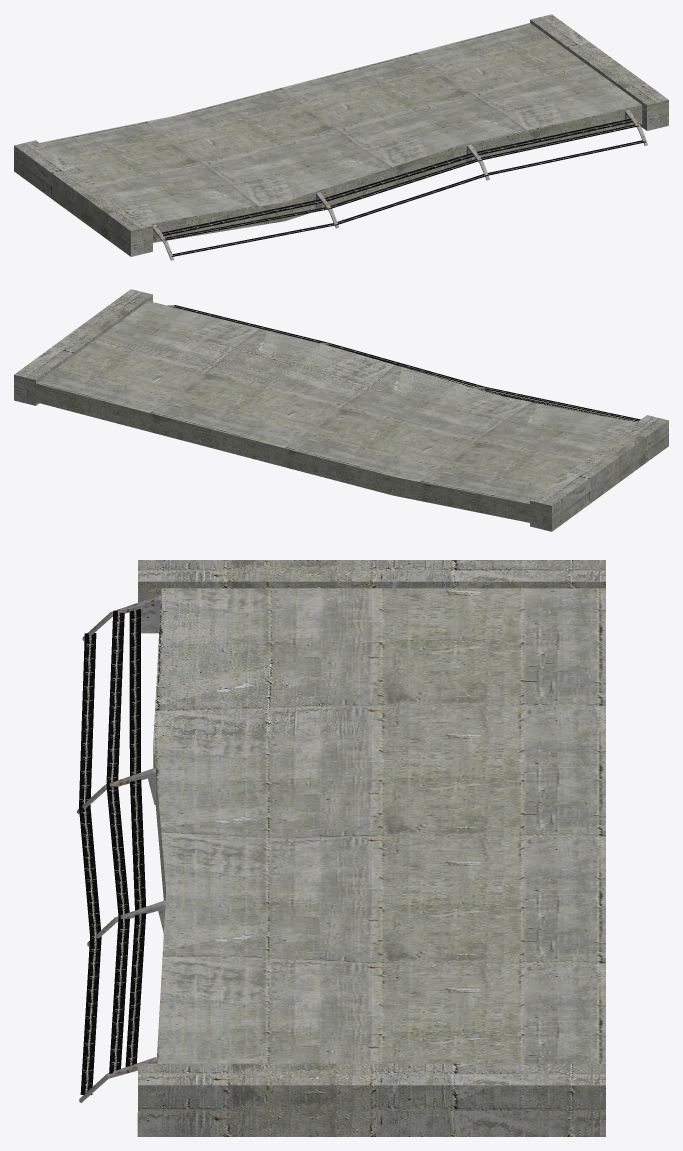
The model's file is mauer_A.obj.
3 renders of one model, top to bottom at view 1: azimuth 30°, elevation 25°; view 2: azimuth 150°, elevation 25°; view 3: azimuth 270°, elevation 25°, orthographic. The views are drawn at different scales.
Visible parts, largest first — view 1: Box011; view 2: Box011; view 3: Box011.
Part boxes in pixels (bbox=[...]): Box011: bbox=[14, 14, 668, 260]; Box011: bbox=[14, 289, 668, 531]; Box011: bbox=[77, 560, 605, 1136].
Size of the model in its own units: 12.98 by 0.7595 by 5.52.
3 materials, 3 textured.
